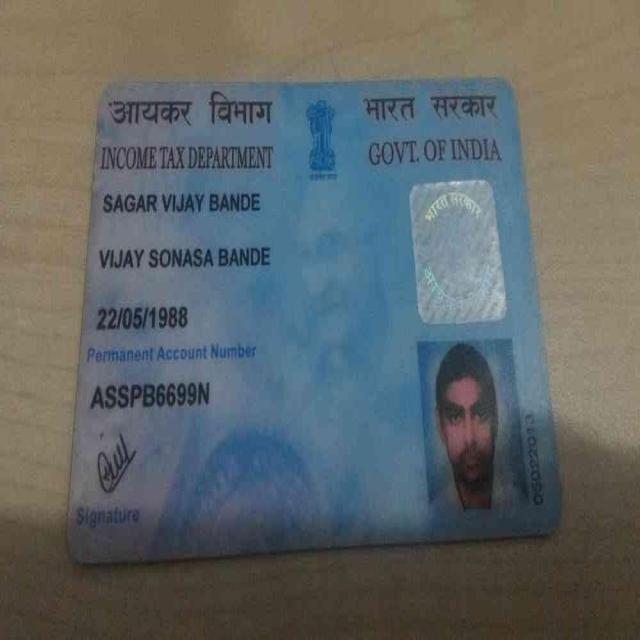pan_card: (68, 83, 556, 561)
